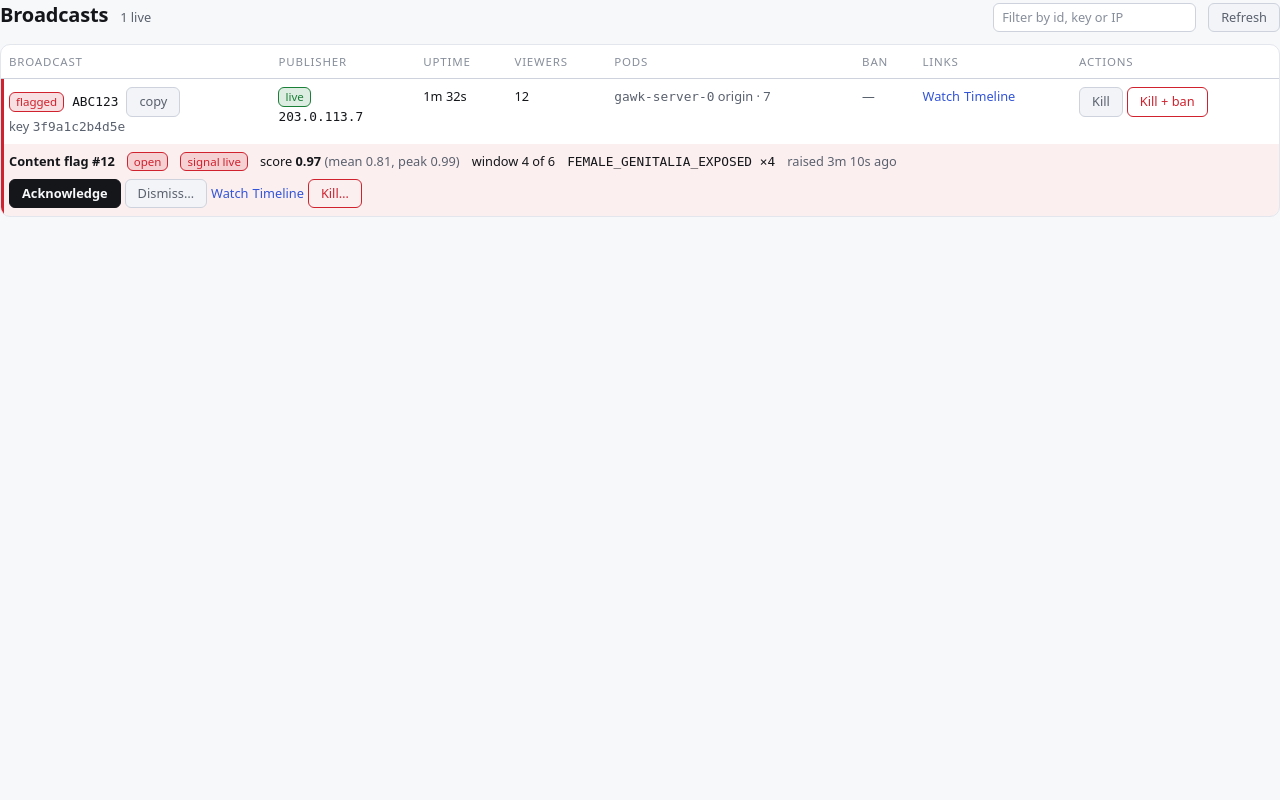
Scenario: the actions › keeps a failed dismissal in its dialog
The width and height of the screenshot is (1280, 800).
Step 1. Click the button "Dismiss…" → point(166, 194), box [125,179,207,208]
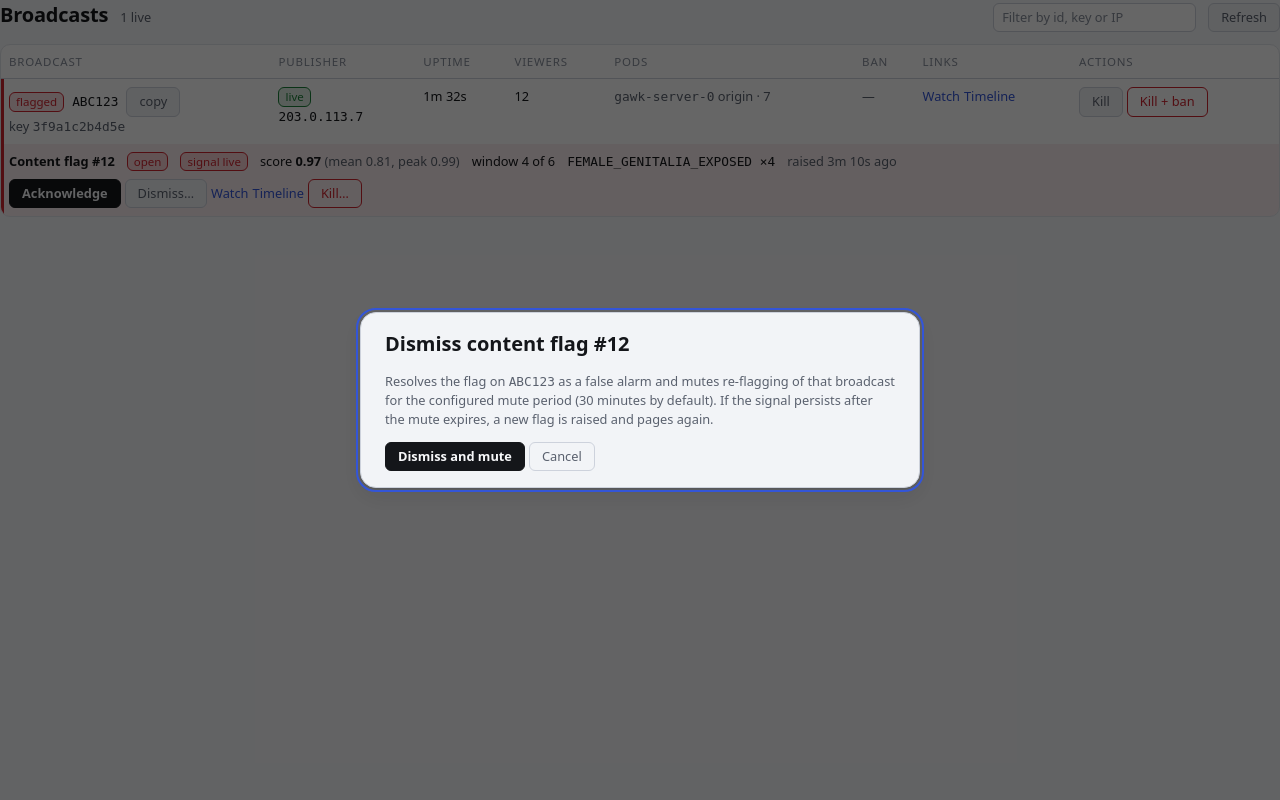
Step 2. Click the button "Dismiss and mute" → point(455, 457), box [385,442,525,471]
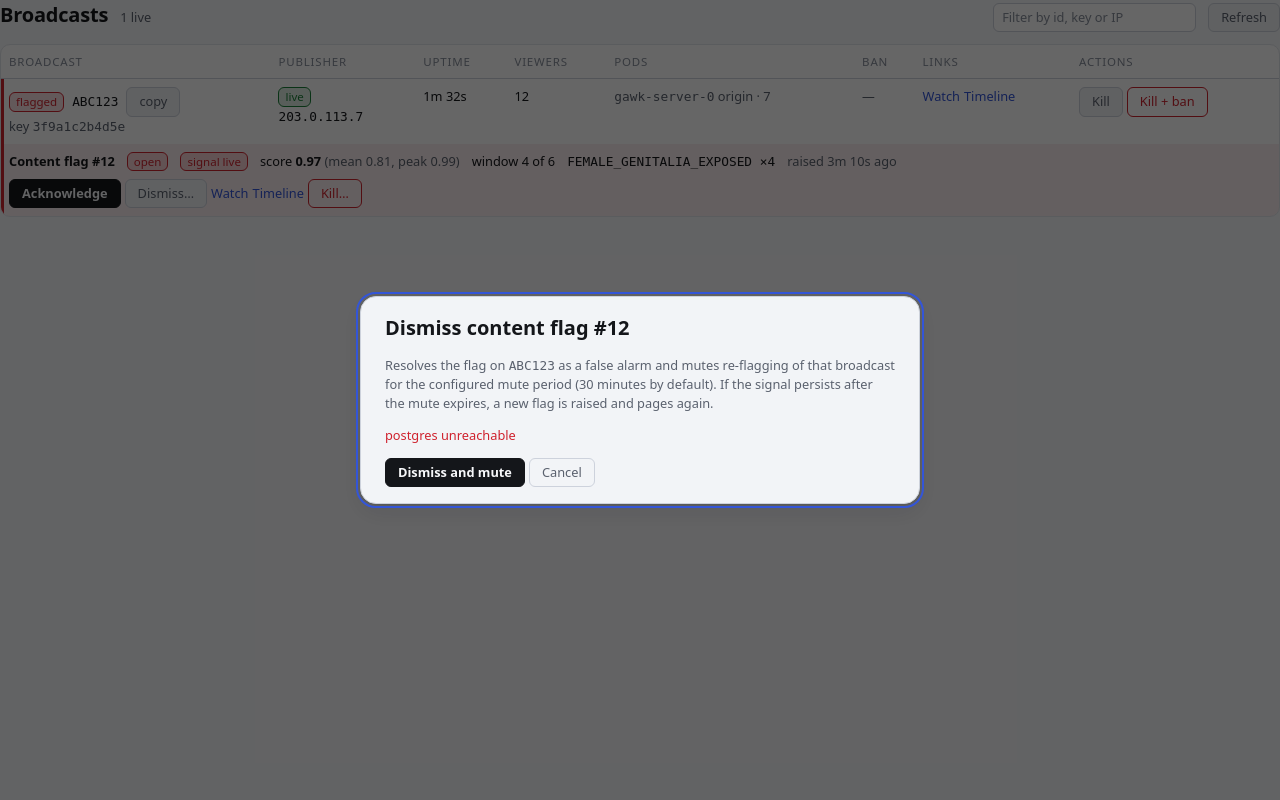
Expected: the text "postgres unreachable" is shown, [385,426,516,444]
